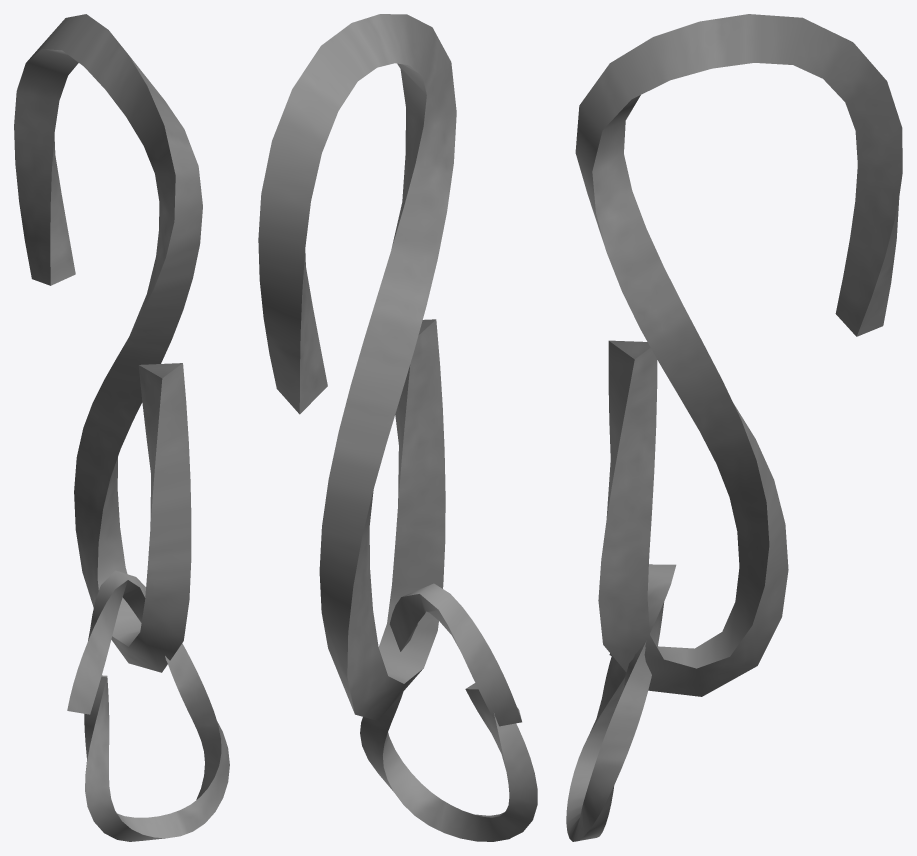
Rendered from chain_hook_left.glb.
3 views of the same model, side by side, from view 1: azimuth 30°, elevation 25°; view 2: azimuth 150°, elevation 25°; view 3: azimuth 270°, elevation 25° (orthographic). The views are drawn at different scales.
Parts seen in each view (by area): view 1: defaultMaterial.359, defaultMaterial.358; view 2: defaultMaterial.359, defaultMaterial.358; view 3: defaultMaterial.359, defaultMaterial.358.
Boxes of the visible parts, <box> form: defaultMaterial.359: <box>14,14,202,672</box>; defaultMaterial.358: <box>67,570,229,841</box>; defaultMaterial.359: <box>258,14,456,720</box>; defaultMaterial.358: <box>360,583,537,841</box>; defaultMaterial.359: <box>575,14,902,696</box>; defaultMaterial.358: <box>566,564,676,841</box>.
Bounding box in the file's own units: 0.0244 × 0.1168 × 0.0429.
Materials: 1 (1 with a texture image).
